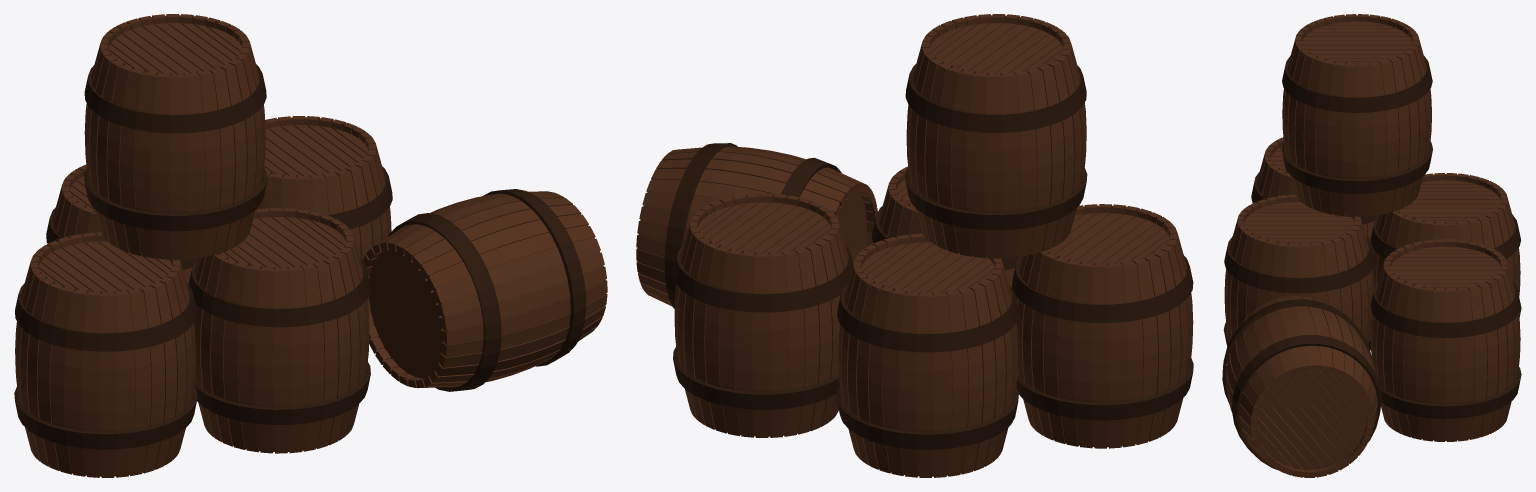
File: barel.glb
The picture shows the model from 3 angles, left to right: view 1: azimuth 30°, elevation 25°; view 2: azimuth 150°, elevation 25°; view 3: azimuth 270°, elevation 25°; orthographic projection. The views are drawn at different scales.
Visible parts, largest first — view 1: 円柱.002, 円柱.003, 円柱.001, 円柱.009, 円柱, 円柱.008; view 2: 円柱.002, 円柱.008, 円柱, 円柱.001, 円柱.003, 円柱.009; view 3: 円柱.002, 円柱, 円柱.003, 円柱.009, 円柱.008, 円柱.001.
Boxes of the visible parts, x1,y1,x2,y2 form: 円柱.002: (84, 14, 267, 259); 円柱.003: (362, 189, 607, 391); 円柱.001: (14, 232, 197, 477); 円柱.009: (188, 208, 370, 453); 円柱: (256, 116, 392, 341); 円柱.008: (46, 164, 197, 283); 円柱.002: (905, 14, 1087, 258); 円柱.008: (836, 233, 1018, 477); 円柱: (673, 193, 852, 437); 円柱.001: (1012, 204, 1193, 448); 円柱.003: (636, 143, 877, 308); 円柱.009: (872, 166, 1019, 293); 円柱.002: (1281, 14, 1432, 216); 円柱: (1370, 239, 1521, 441); 円柱.003: (1222, 296, 1381, 477); 円柱.009: (1223, 194, 1374, 350); 円柱.008: (1370, 173, 1521, 317); 円柱.001: (1251, 137, 1377, 248).
Size of what is drawn, in the model's own units: 8.22 by 5.44 by 4.81.
